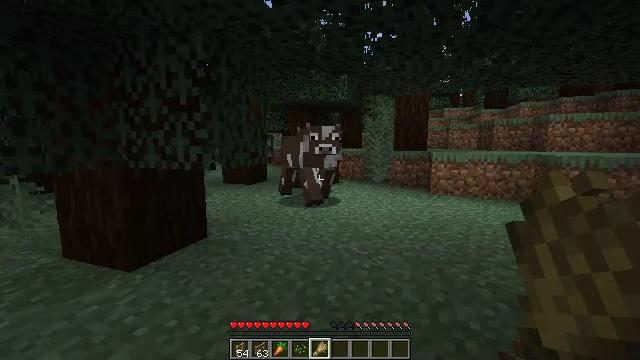cow: (279, 124, 341, 205)
